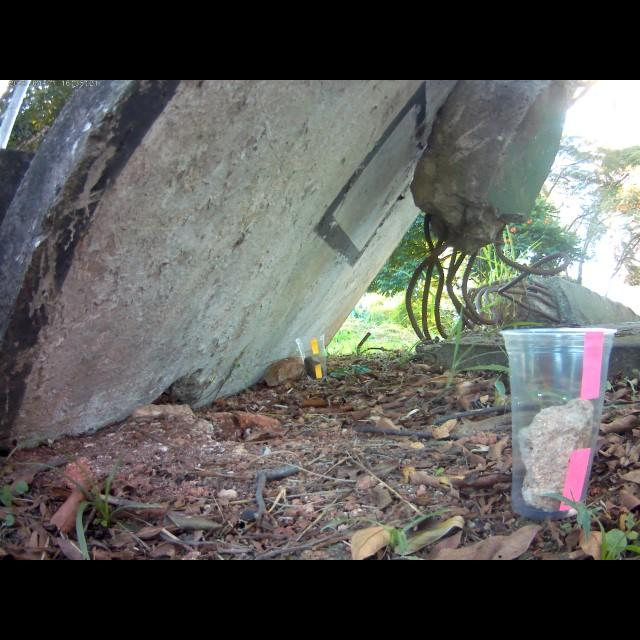detrito: (0, 80, 519, 458), (404, 80, 581, 261), (407, 267, 640, 388)
